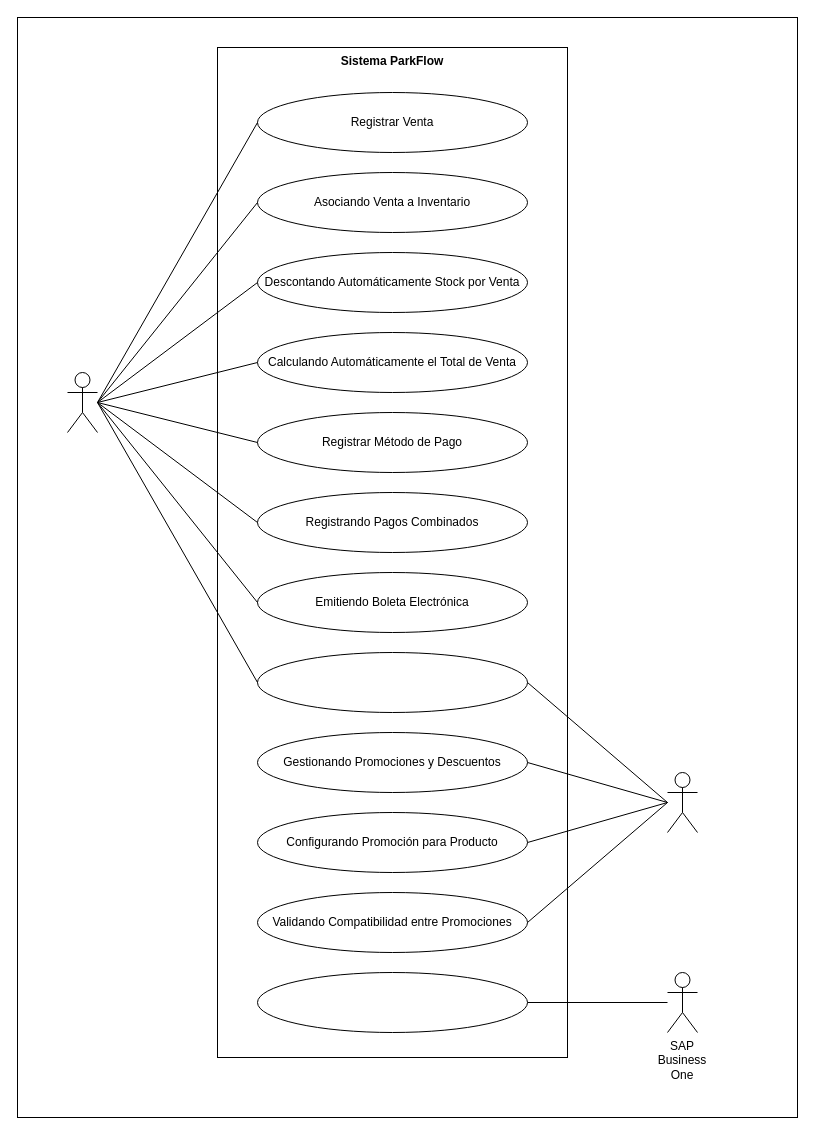
The diagram is 815 pixels wide and 1135 high, and some of its shapes have lost their labels. The centre of each missing label's shape, as x and y in pixels:
Administrador: point 682,802
Cajero: point 82,402
Reimprimiendo Boleta: point 392,682
Sincronizando Venta con SAP Business One: point 392,1002
